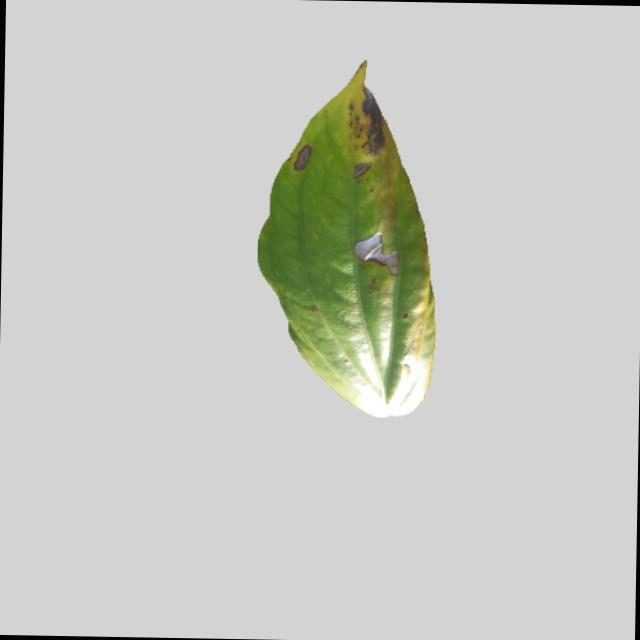yellow-mottle-virus: (252, 59, 462, 426)
